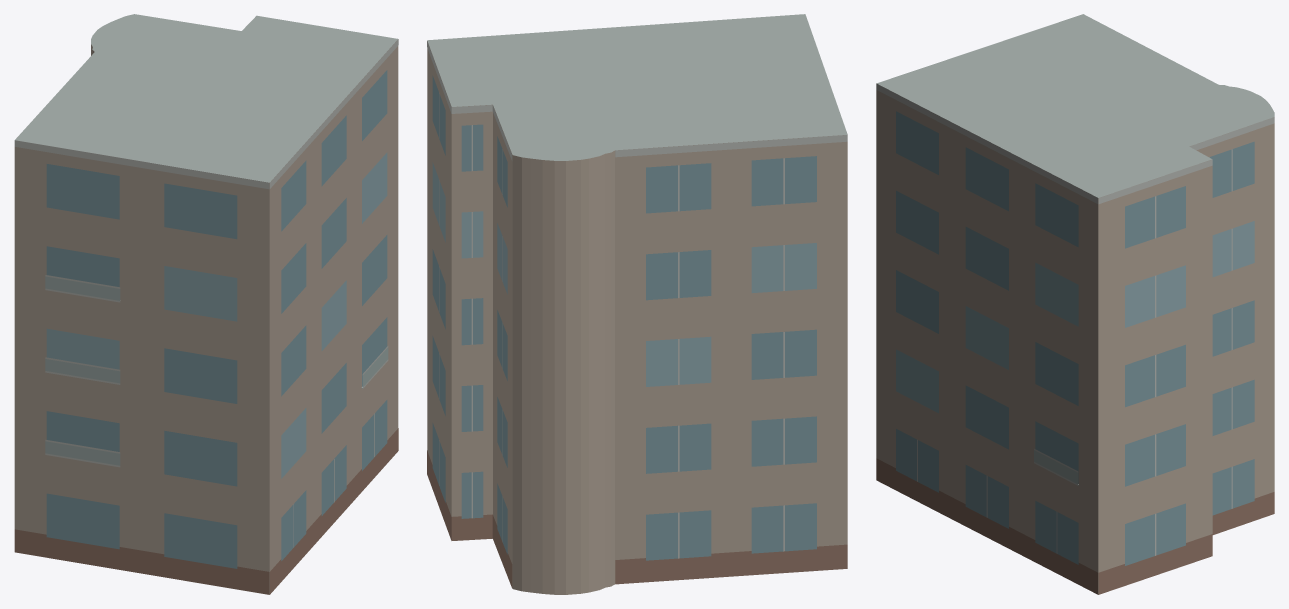
The model's file is survey-upis-32630643.glb.
The picture shows the model from 3 angles, left to right: view 1: azimuth 30°, elevation 25°; view 2: azimuth 150°, elevation 25°; view 3: azimuth 270°, elevation 25°; orthographic projection. The views are drawn at different scales.
Visible parts, largest first — view 1: survey-upis-32630643.tmp; view 2: survey-upis-32630643.tmp; view 3: survey-upis-32630643.tmp.
Part boxes in pixels (x1,y1,x2,y2): survey-upis-32630643.tmp: [14, 14, 398, 594]; survey-upis-32630643.tmp: [427, 14, 847, 594]; survey-upis-32630643.tmp: [876, 14, 1274, 594].
Bounding box in the file's own units: 15.12 × 15.2 × 13.83.
